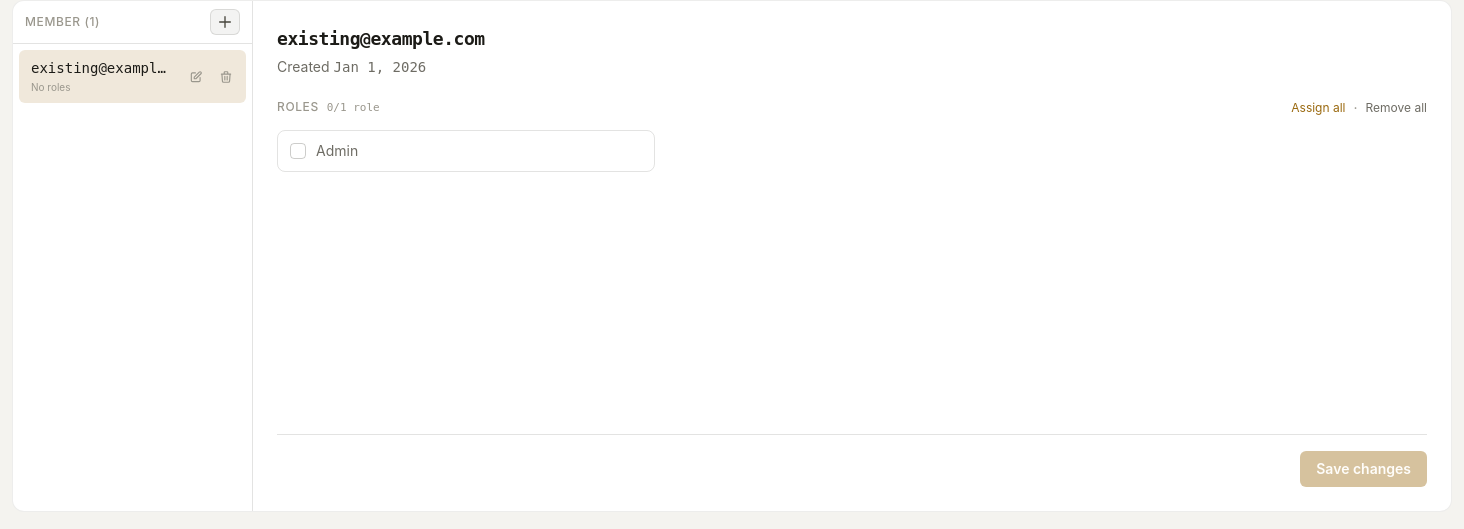
Test: UsersView — create modal › opens the modal from the header button and validates email + password
The image size is (1464, 529).
Click the button named "New member" at (225, 22), box [210,9,240,35]
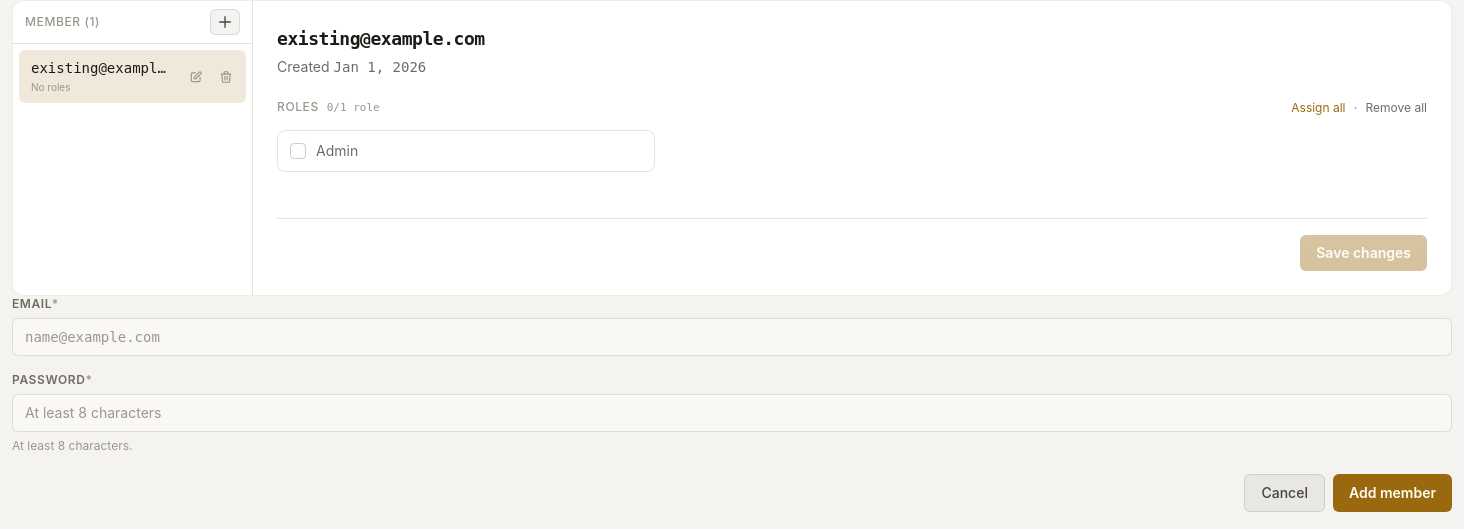
Check: the field with id "create-member-email" is shown, box [12,318,1452,356]
Note: Empty email → error, no API call.
Submit the form, box [12,296,1452,512]
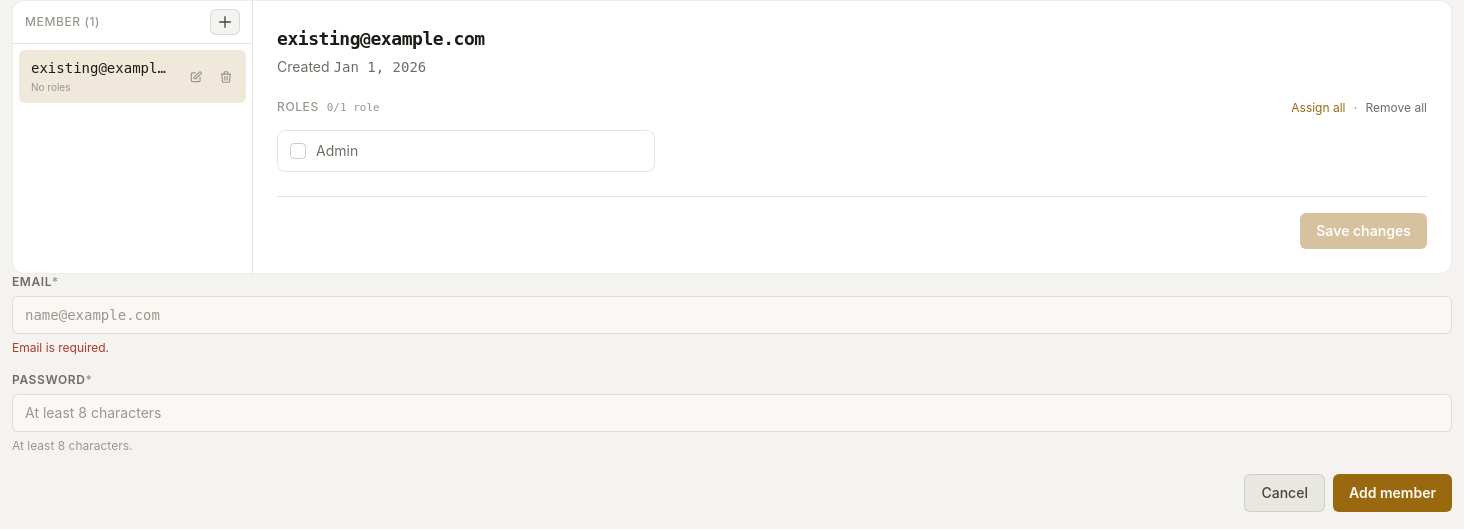
Check: the text "Email is required." is shown, box [12,340,109,355]
Note: Email present but short password → password error, still no API call.
Type "new@example.com" into the field with id "create-member-email" at (732, 315), box [12,296,1452,334]
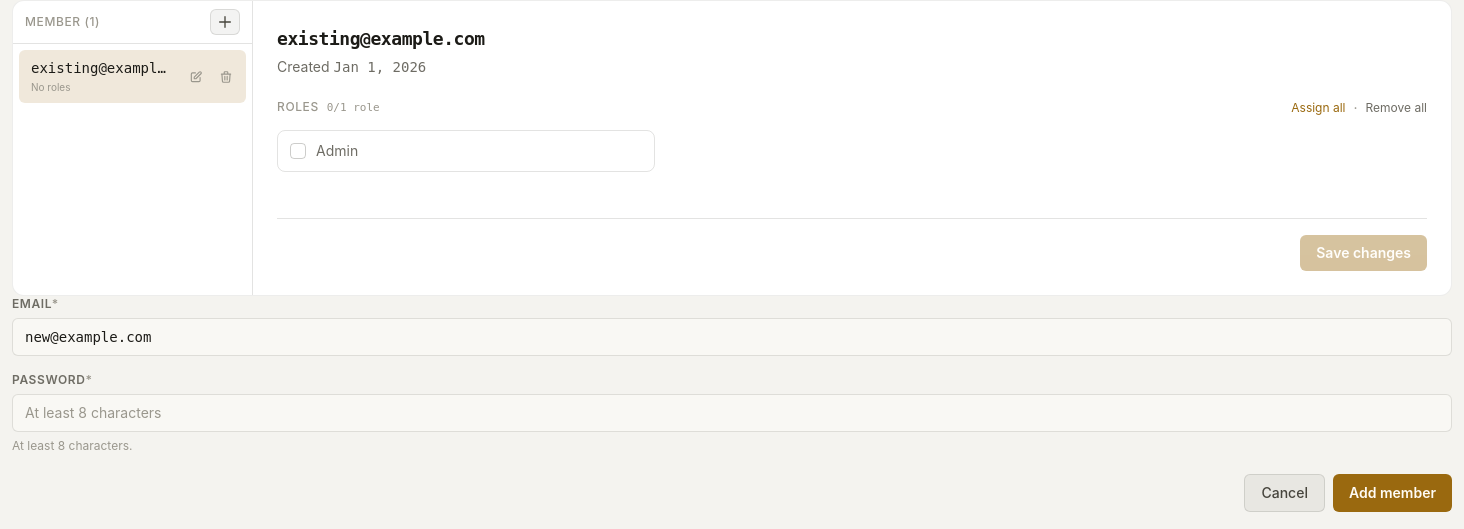
Type "short" into the password field with id "create-member-password" at (732, 413), box [12,394,1452,432]
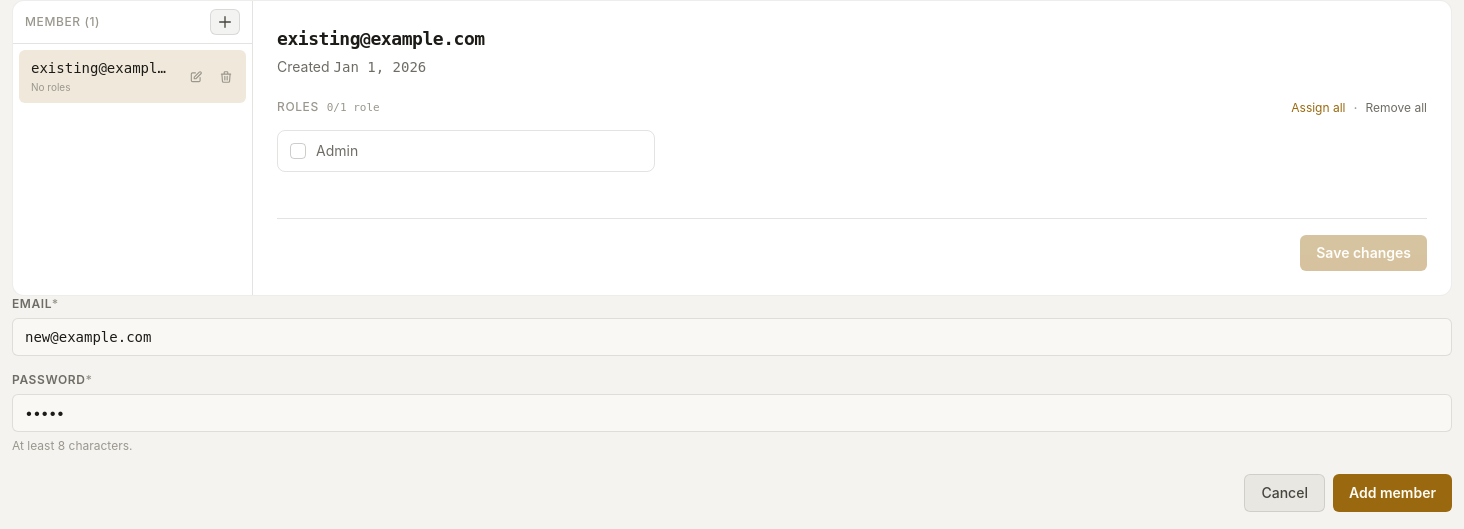
Submit the form, box [12,296,1452,512]
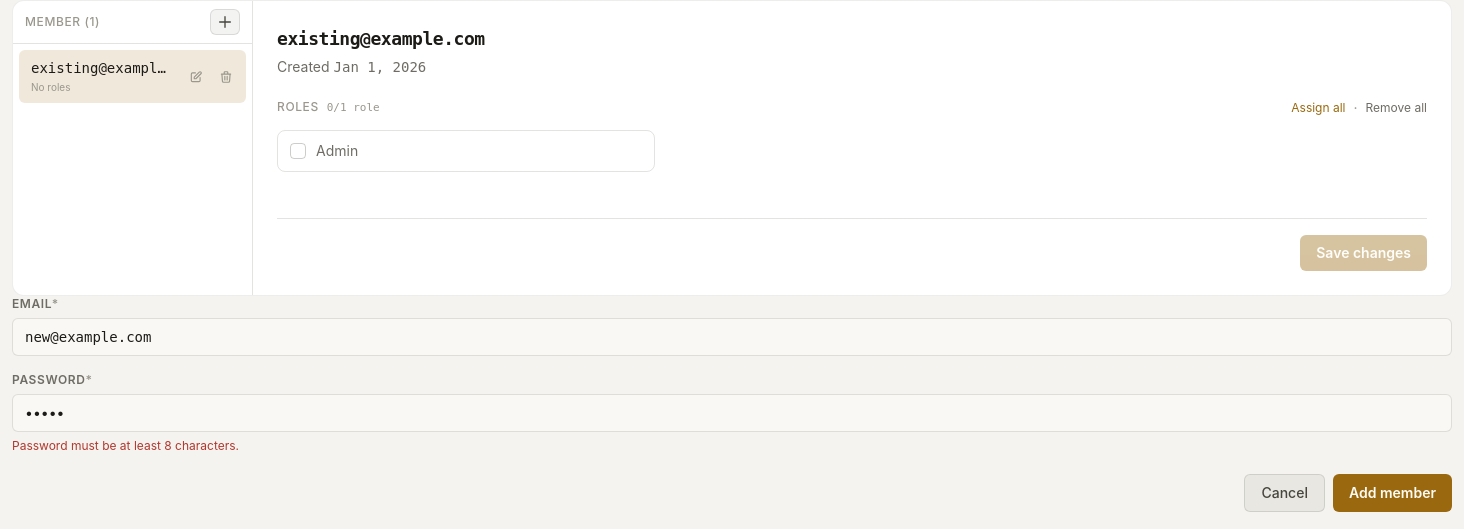
Check: the text "Password must be at least 8 characters." is shown, box [12,438,239,453]
